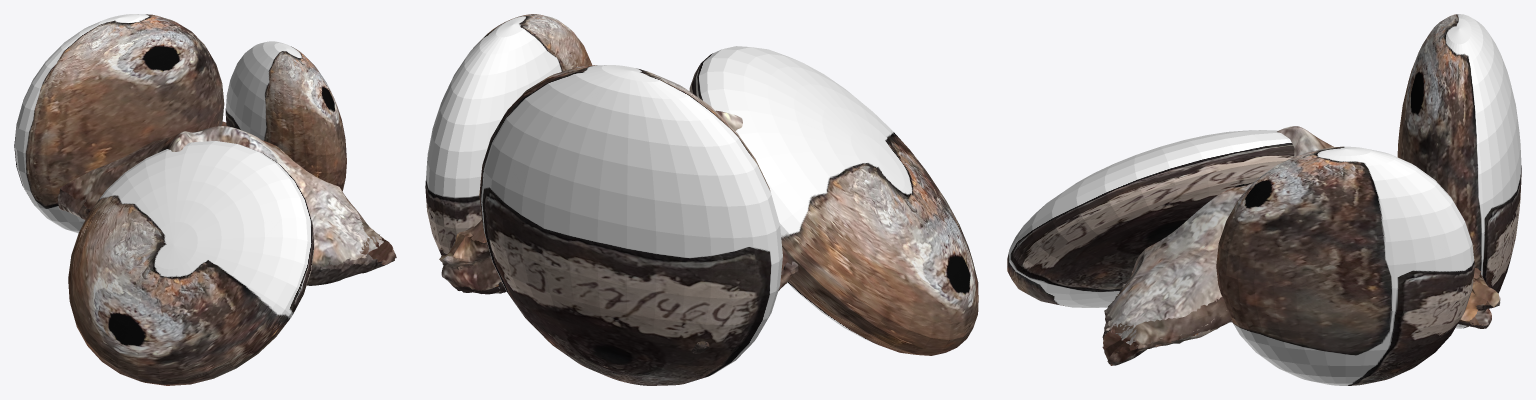
File: nietplatte_mit_Rost.gltf
3 views of the same model, side by side, from view 1: azimuth 30°, elevation 25°; view 2: azimuth 150°, elevation 25°; view 3: azimuth 270°, elevation 25° (orthographic). The views are drawn at different scales.
Parts seen in each view (by area): view 1: rost3, rost1, rost2, modelNietplatte_eng.001; view 2: rost1, rost3, rost2, modelNietplatte_eng.001; view 3: rost2, rost3, rost1, modelNietplatte_eng.001.
Boxes of the visible parts, x1,y1,x2,y2 form: rost3: (68,141,314,385); rost1: (14,14,224,233); rost2: (225,41,346,191); modelNietplatte_eng.001: (57,121,396,285); rost1: (479,65,782,385); rost3: (689,46,978,355); rost2: (425,14,592,255); modelNietplatte_eng.001: (439,110,798,353); rost2: (1216,146,1474,385); rost3: (1007,130,1294,307); rost1: (1397,14,1521,328); modelNietplatte_eng.001: (1102,126,1500,365).
Bounding box in the file's own units: 24.26 × 20.01 × 28.21.
